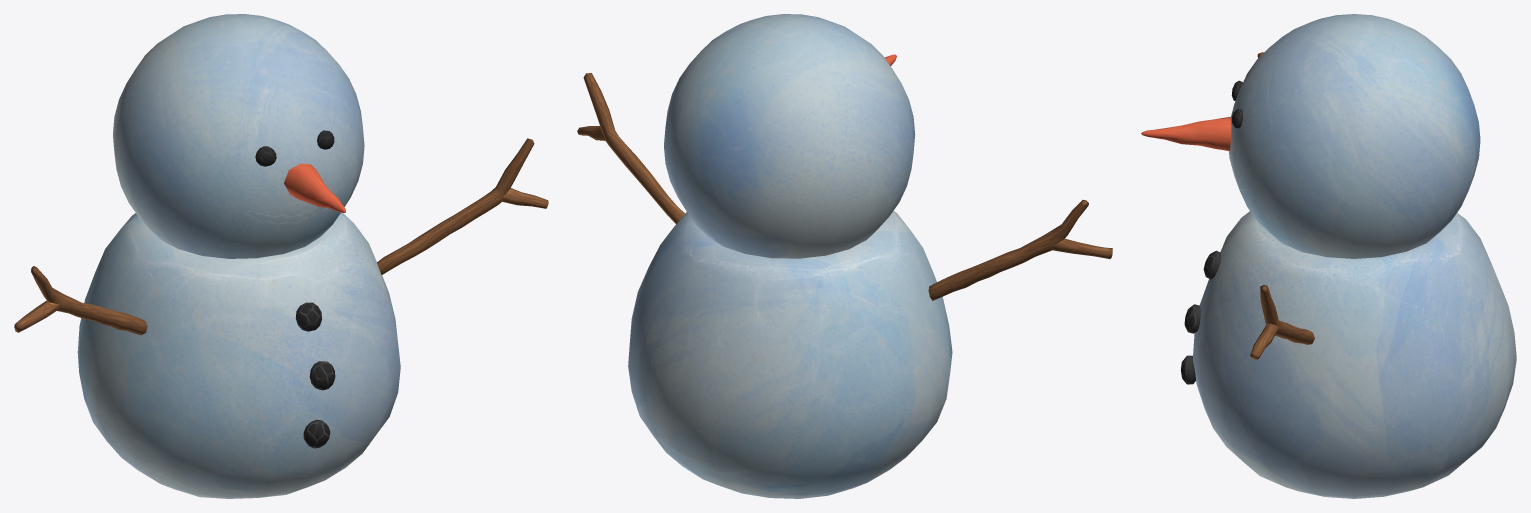
File: Snowman.fbx
The picture shows the model from 3 angles, left to right: view 1: azimuth 30°, elevation 25°; view 2: azimuth 150°, elevation 25°; view 3: azimuth 270°, elevation 25°; orthographic projection.
Parts seen in each view (by area): view 1: SnowMan_Body_geo, SnowMan_Head_geo, SnowMan_L_Arm_geo, SnowMan_R_Arm_geo, SnowMan_Buttons_geo, SnowMan_Nose_geo, SnowMan_Eyes_geo; view 2: SnowMan_Body_geo, SnowMan_Head_geo, SnowMan_R_Arm_geo, SnowMan_L_Arm_geo; view 3: SnowMan_Body_geo, SnowMan_Head_geo, SnowMan_Nose_geo, SnowMan_L_Arm_geo, SnowMan_Buttons_geo.
Boxes of the visible parts, box(x1,y1,x2,y2) form: SnowMan_Body_geo: box(77, 212, 400, 498); SnowMan_Head_geo: box(113, 14, 364, 258); SnowMan_L_Arm_geo: box(377, 138, 548, 274); SnowMan_R_Arm_geo: box(14, 266, 147, 335); SnowMan_Buttons_geo: box(295, 302, 335, 448); SnowMan_Nose_geo: box(284, 163, 345, 212); SnowMan_Eyes_geo: box(255, 130, 334, 166); SnowMan_Body_geo: box(628, 211, 952, 498); SnowMan_Head_geo: box(664, 14, 915, 258); SnowMan_R_Arm_geo: box(928, 200, 1112, 300); SnowMan_L_Arm_geo: box(577, 73, 684, 223); SnowMan_Body_geo: box(1193, 211, 1516, 498); SnowMan_Head_geo: box(1229, 14, 1480, 258); SnowMan_Nose_geo: box(1141, 117, 1231, 151); SnowMan_L_Arm_geo: box(1250, 285, 1314, 359); SnowMan_Buttons_geo: box(1180, 250, 1220, 384).
Bounding box in the file's own units: 32.62 × 25.83 × 19.94.
